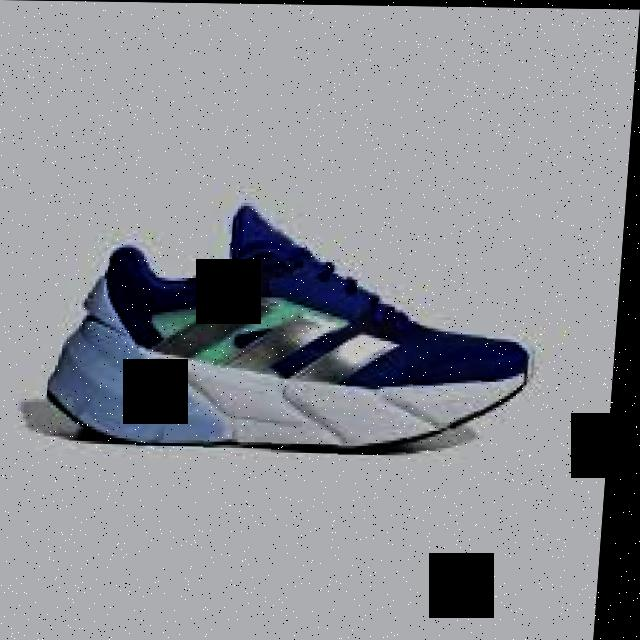shoe: (50, 196, 557, 456)
